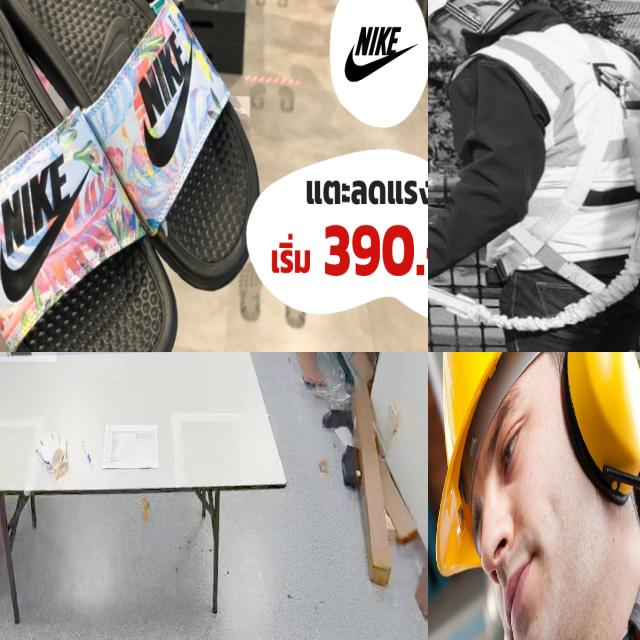Ear-protection: (453, 352, 640, 640)
Harness: (582, 42, 640, 316)
No_Glasses: (471, 366, 547, 522)
Sandals: (0, 0, 269, 352)
person: (428, 352, 640, 640)
